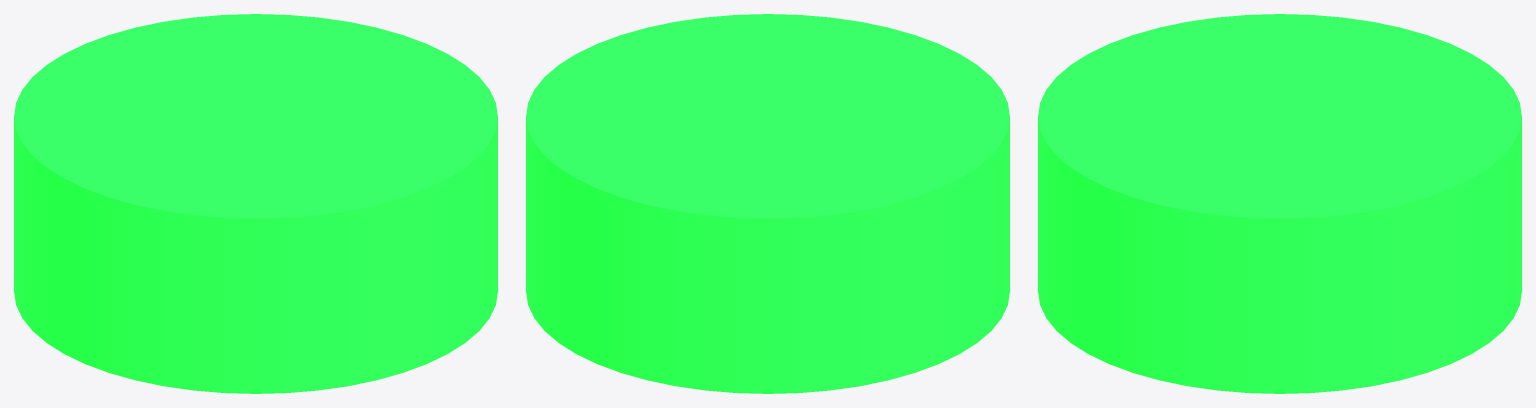
Rendered from status_light_ok_p.glb.
3 renders of one model, left to right at view 1: azimuth 30°, elevation 25°; view 2: azimuth 150°, elevation 25°; view 3: azimuth 270°, elevation 25°, orthographic.
Visible parts, largest first — view 1: led; view 2: led; view 3: led.
Part boxes in pixels (x1=…): led: x1=14, y1=14, x2=497, y2=393; led: x1=526, y1=14, x2=1009, y2=393; led: x1=1038, y1=14, x2=1521, y2=393.
Size of the model in its own units: 0.05 by 0.02 by 0.05.
